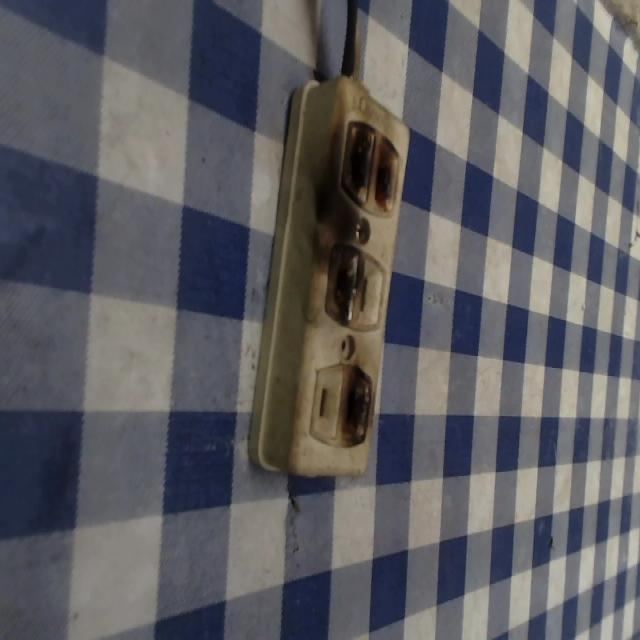-: (338, 114, 400, 214), (323, 238, 361, 326), (342, 362, 373, 442)
